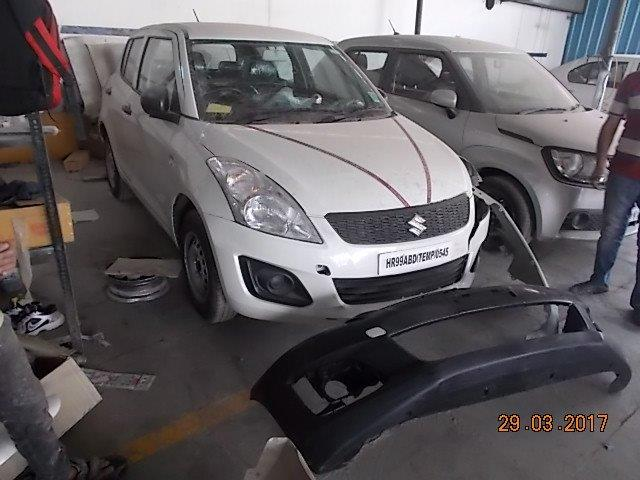Dislocation: (541, 340, 606, 418), (610, 281, 638, 381)
